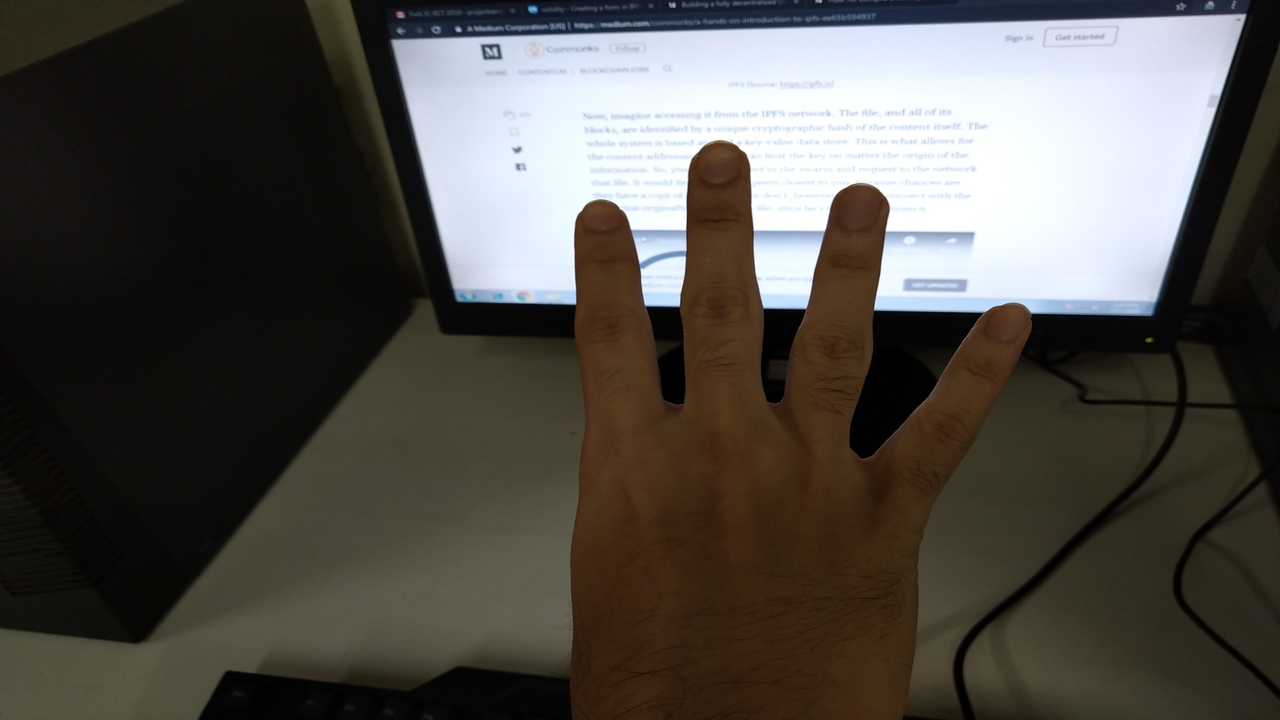fingertip: (974, 296, 1046, 354), (824, 176, 892, 232), (686, 140, 754, 194), (570, 194, 632, 248)
